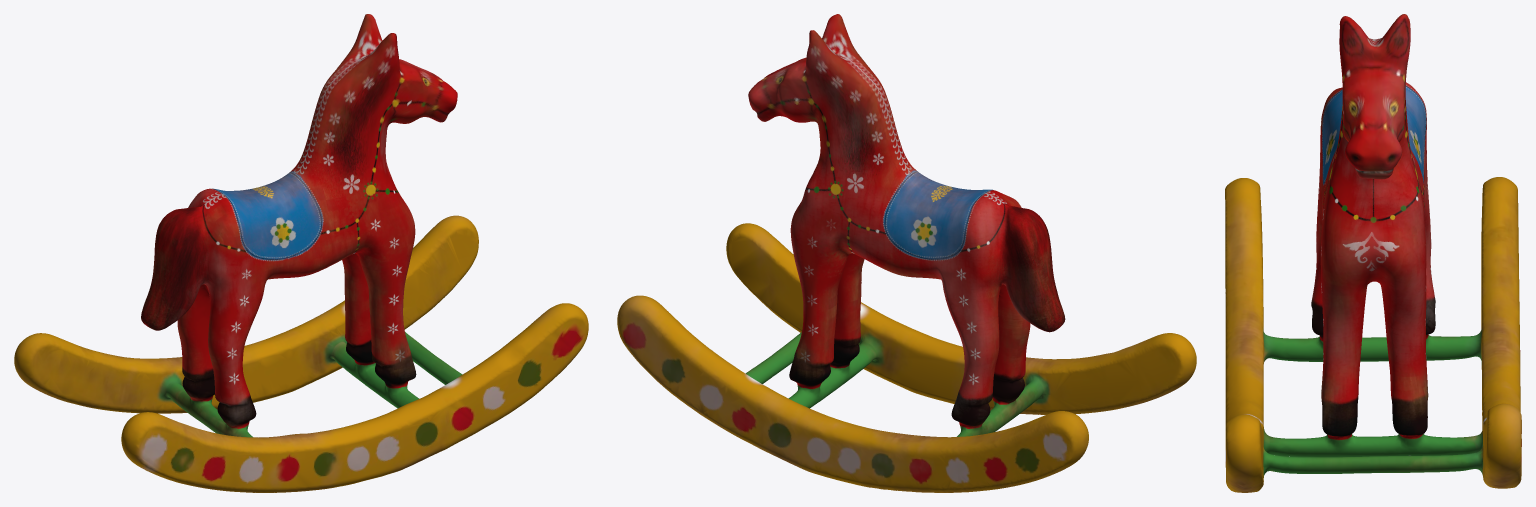
Rendered from fun_knight.glb.
The picture shows the model from 3 angles, left to right: view 1: azimuth 30°, elevation 25°; view 2: azimuth 150°, elevation 25°; view 3: azimuth 270°, elevation 25°; orthographic projection. The views are drawn at different scales.
Parts seen in each view (by area): view 1: Object_2; view 2: Object_2; view 3: Object_2.
Part boxes in pixels (x1=…): Object_2: x1=14, y1=14, x2=588, y2=492; Object_2: x1=617, y1=14, x2=1196, y2=492; Object_2: x1=1225, y1=14, x2=1521, y2=492.
Size of the model in its own units: 0.7792 by 0.6387 by 0.3619.
Materials: 1 (1 with a texture image).
